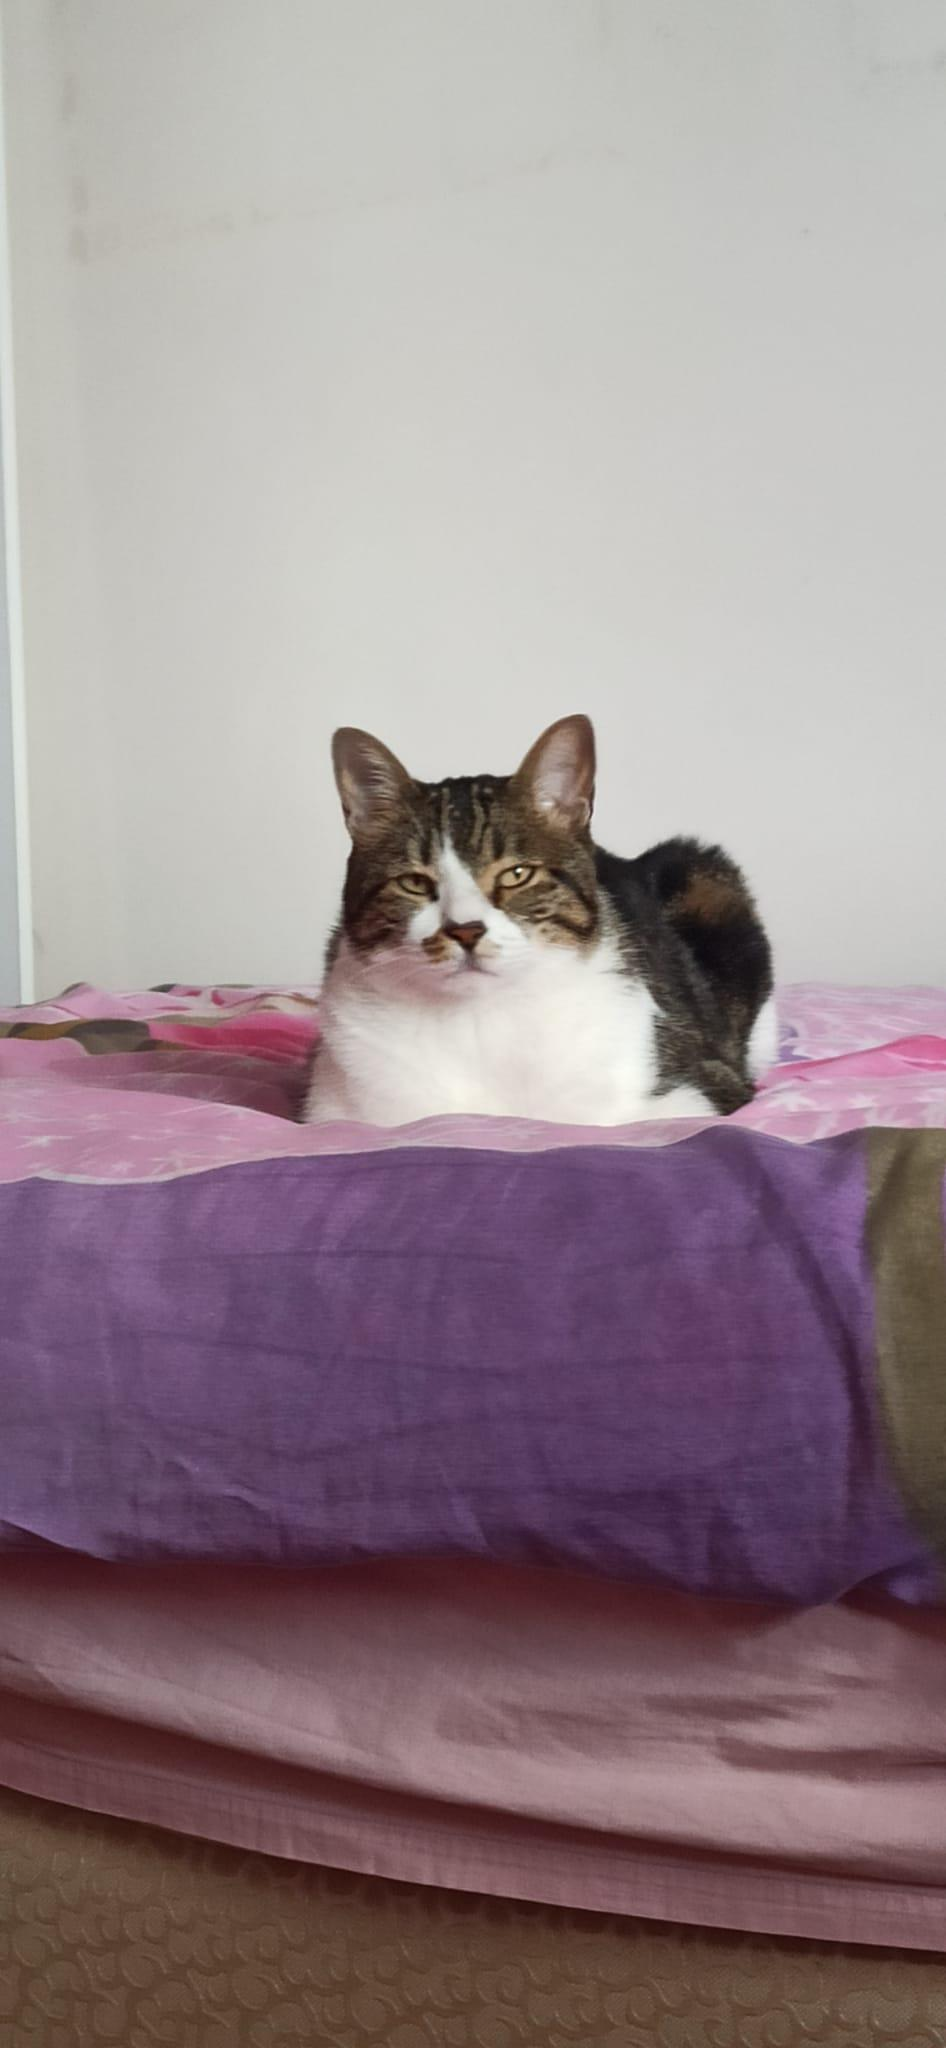kedo: (316, 716, 772, 1121)
